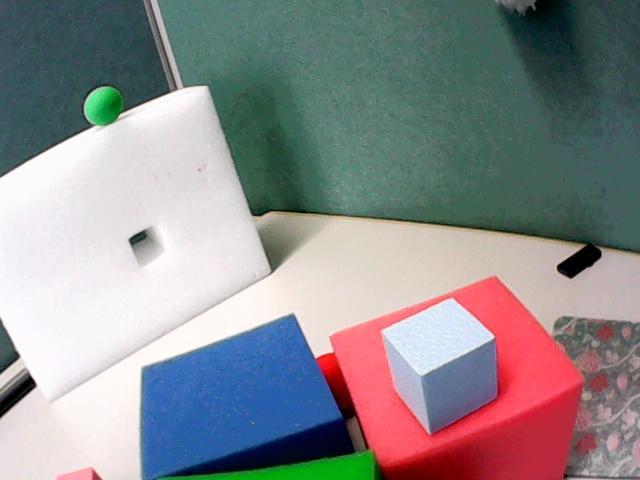blue_block: (141, 315, 353, 480), (382, 299, 496, 432)
red_block: (331, 278, 582, 479), (317, 353, 354, 417), (56, 468, 100, 479)
